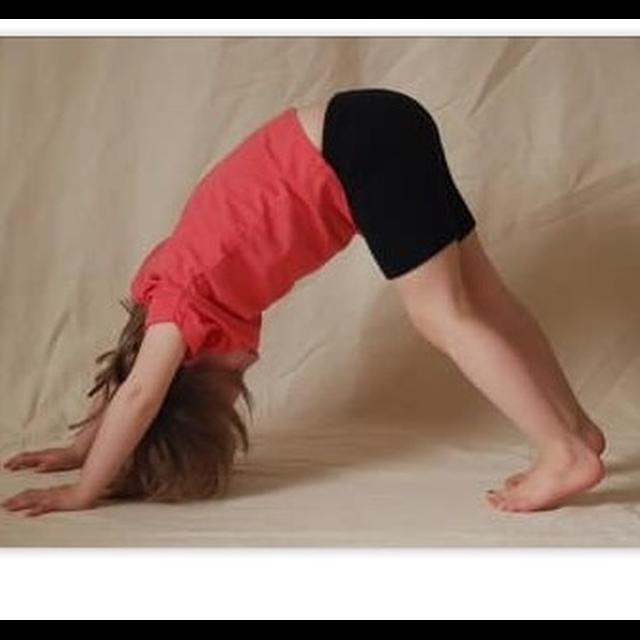Downward-Facing_Dog: (3, 82, 609, 524)
